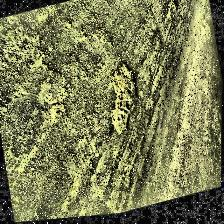pothole: (100, 57, 150, 139)
